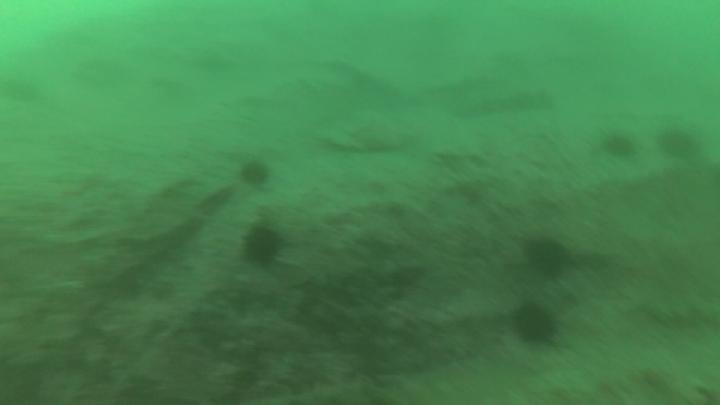echinus: (525, 240, 569, 276), (658, 127, 701, 161), (243, 228, 276, 261), (606, 135, 635, 158), (243, 161, 266, 185)
starfish: (516, 302, 555, 344)
